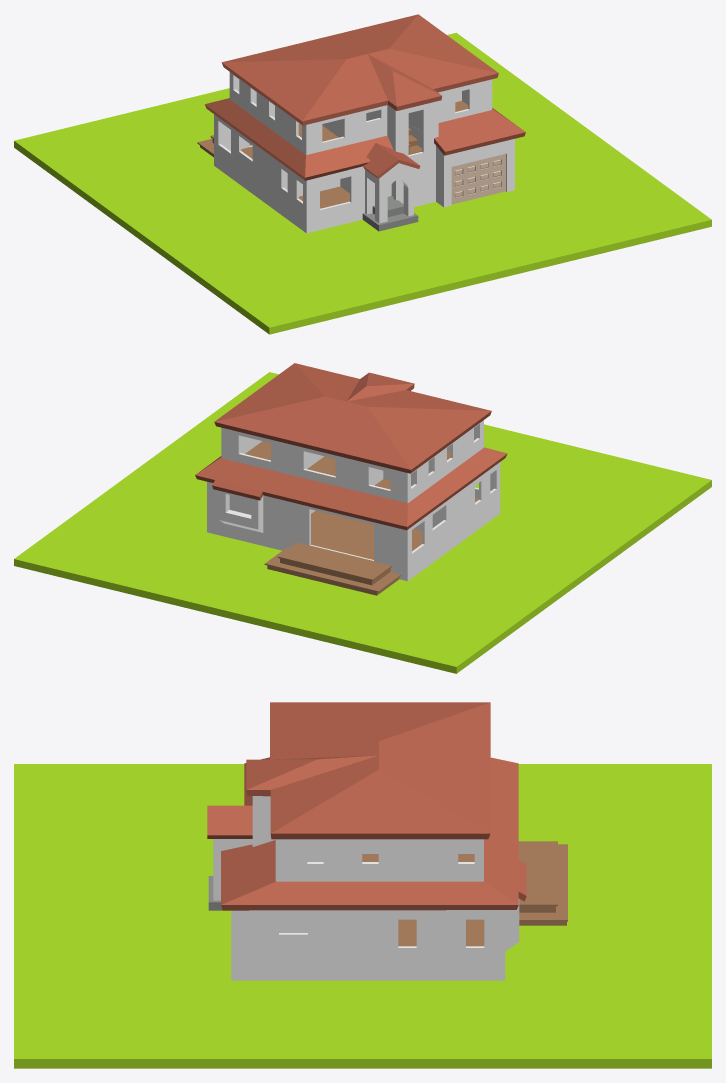
The model's file is HouseTestFile.glb.
3 views of the same model, one above another, from view 1: azimuth 30°, elevation 25°; view 2: azimuth 150°, elevation 25°; view 3: azimuth 270°, elevation 25° (orthographic). The views are drawn at different scales.
Visible parts, largest first — view 1: Ground, Walls, Upper Roof Base, Lower Roof Base, Garage Door, Porch Structure, Porch Roof, Front Steps, Floor; view 2: Ground, Walls, Upper Roof Base, Lower Roof Base, Floor, Backyard Deck.002, Window Extension, Backyard Deck, Backyard Deck.001, Floor 2; view 3: Ground, Upper Roof Base, Walls, Lower Roof Base, Backyard Deck.002, Porch Roof, Backyard Deck.001, Floor, Porch Structure, Window Extension.
Boxes of the visible parts, x1,y1,x2,y2 form: Ground: (14, 32, 711, 334); Walls: (214, 72, 514, 233); Upper Roof Base: (221, 14, 498, 125); Lower Roof Base: (205, 98, 525, 180); Garage Door: (451, 154, 505, 204); Porch Structure: (365, 163, 413, 223); Porch Roof: (363, 143, 420, 178); Front Steps: (362, 196, 418, 231); Floor: (241, 146, 349, 208); Ground: (14, 372, 711, 673); Walls: (207, 420, 500, 581); Upper Roof Base: (214, 363, 491, 473); Lower Roof Base: (195, 447, 507, 530); Floor: (311, 497, 478, 559); Backyard Deck.002: (278, 542, 391, 580); Window Extension: (219, 490, 263, 532); Backyard Deck: (267, 558, 399, 595); Backyard Deck.001: (264, 547, 401, 592); Floor 2: (245, 441, 450, 489); Ground: (14, 764, 711, 1068); Upper Roof Base: (246, 702, 490, 839); Walls: (231, 796, 505, 980); Lower Roof Base: (221, 757, 526, 910); Backyard Deck.002: (518, 841, 557, 906); Porch Roof: (207, 805, 252, 838); Backyard Deck.001: (519, 844, 567, 921); Floor: (398, 919, 484, 946); Porch Structure: (213, 839, 252, 900); Window Extension: (505, 899, 519, 951).
Bounding box in the file's own units: 22.48 × 6.14 × 22.48.
